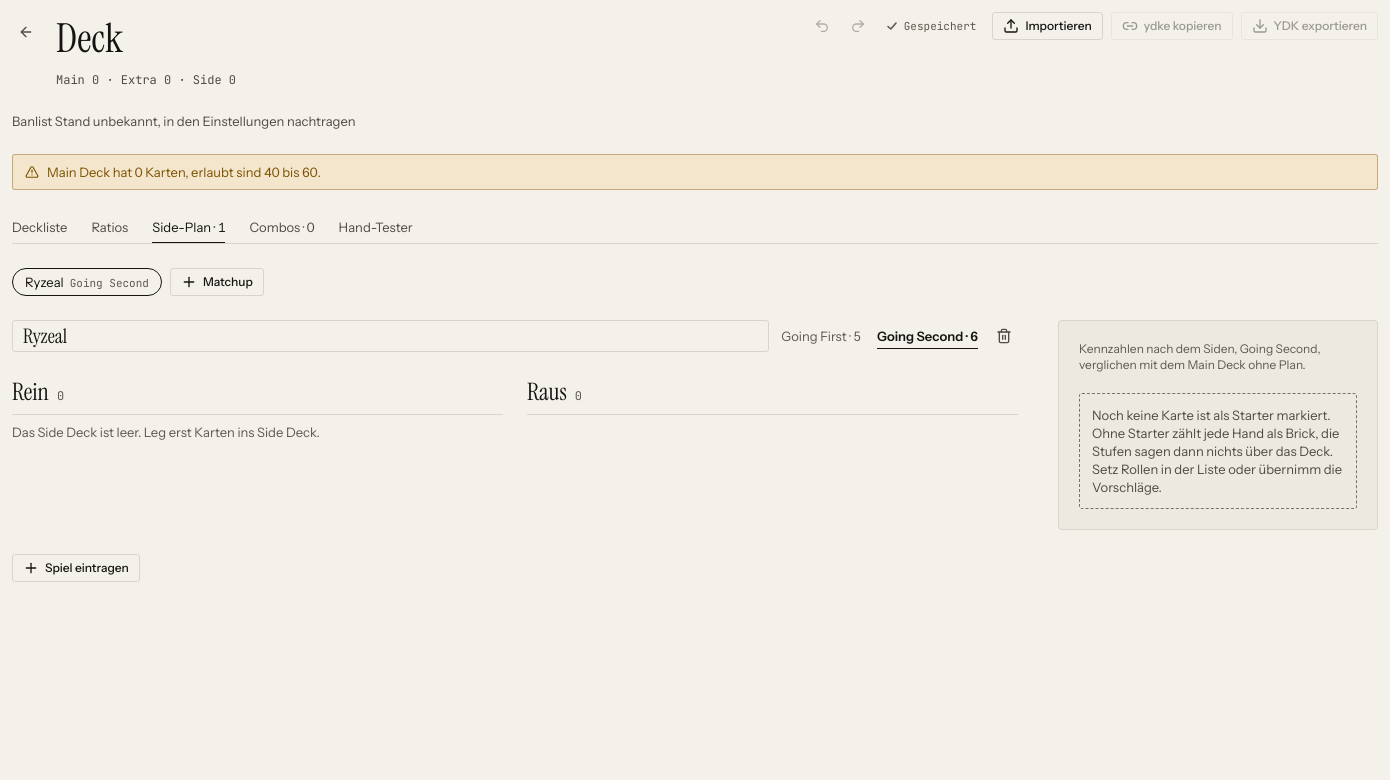
Strg+Z nimmt einen neuen Side-Plan zurück, aber nicht dessen neu eingetragenes Spiel
Click the button "Matchup" at (217, 282), box left=170, top=268, right=264, bottom=296
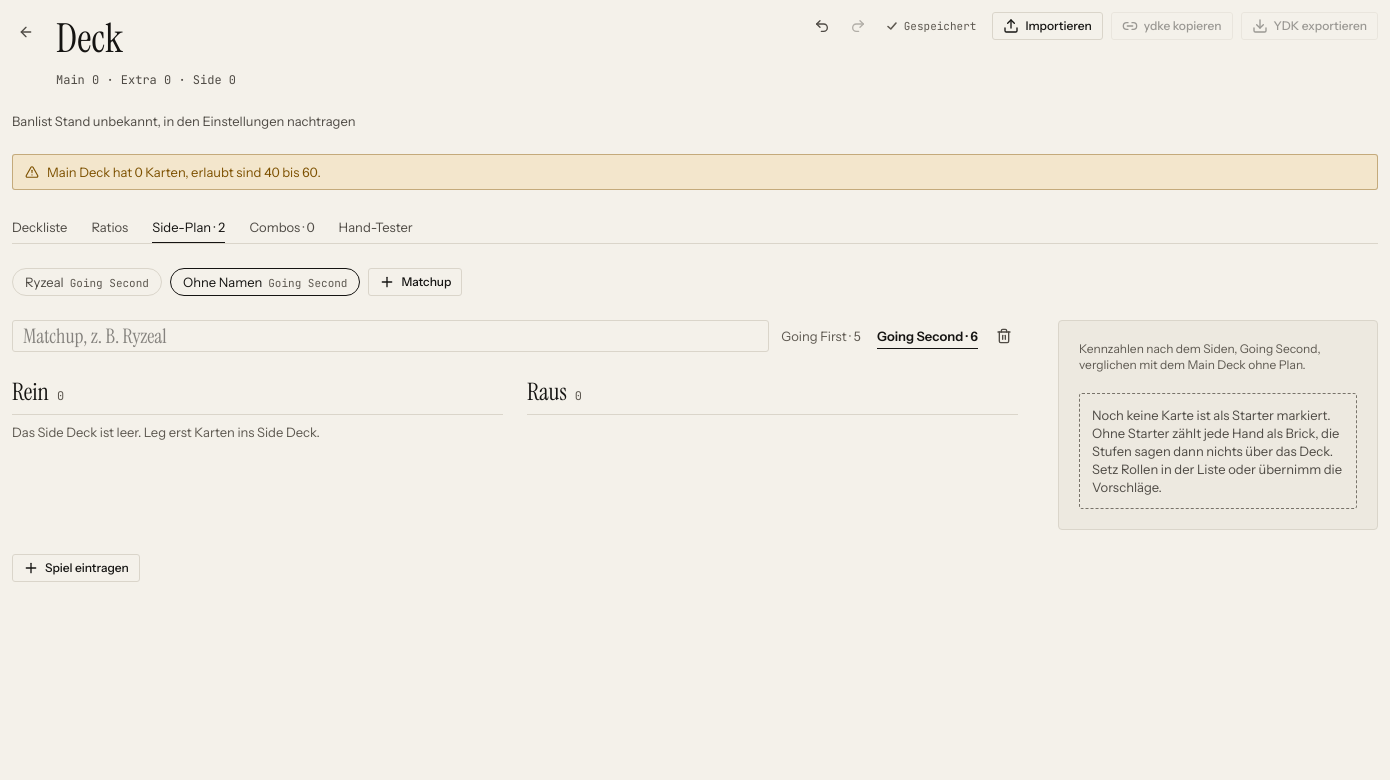
Click the button "Spiel eintragen" at (76, 568), box left=12, top=554, right=140, bottom=582
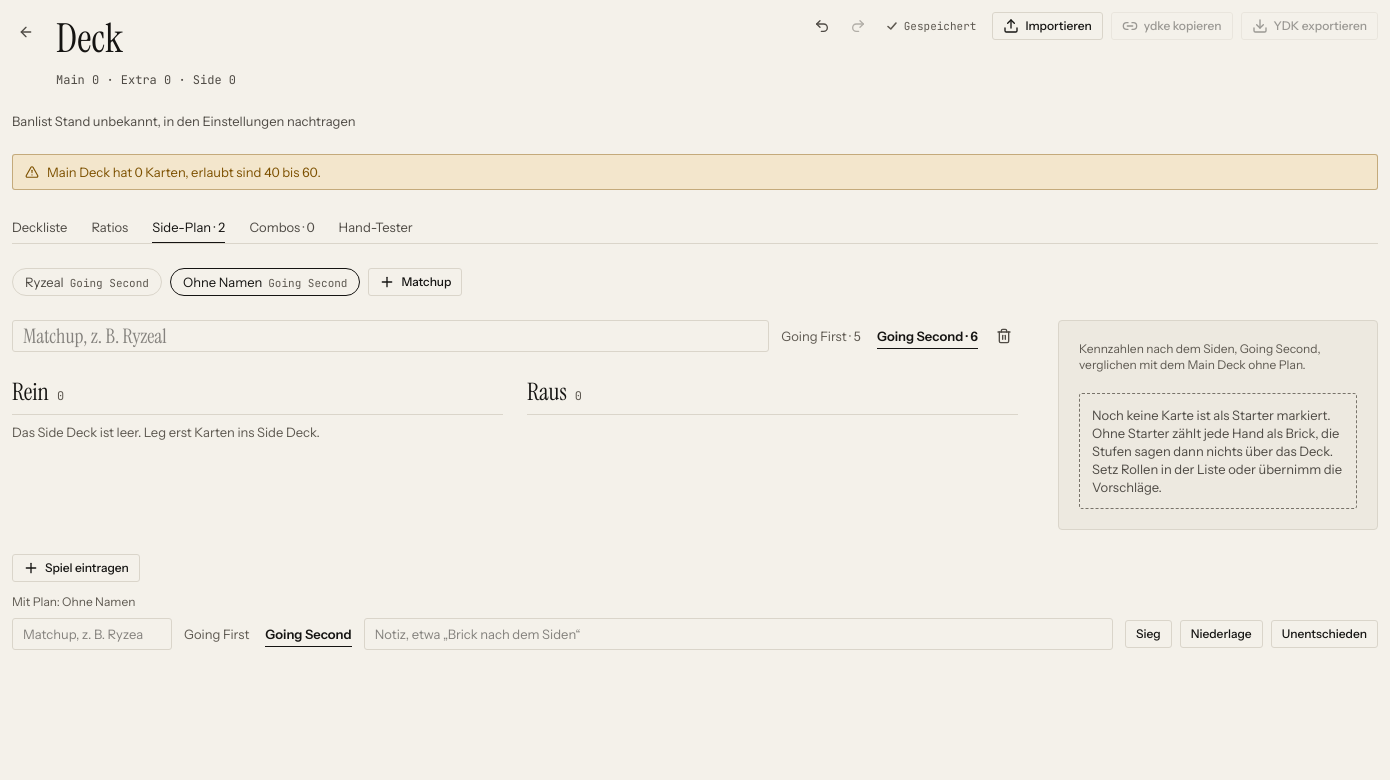
Click the button "Sieg" at (1148, 634), box left=1125, top=620, right=1172, bottom=648
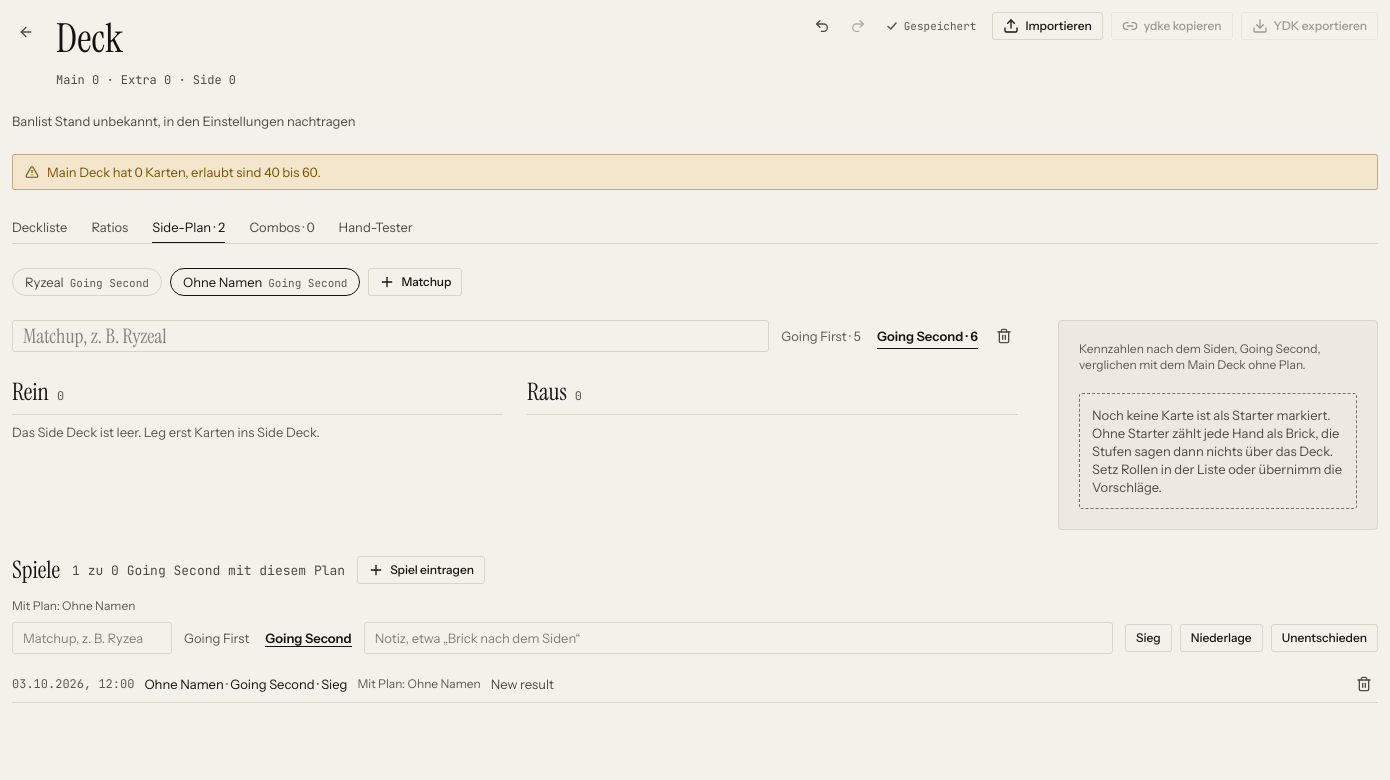
Check: the text "New result" is shown, box left=491, top=676, right=554, bottom=692
Press z
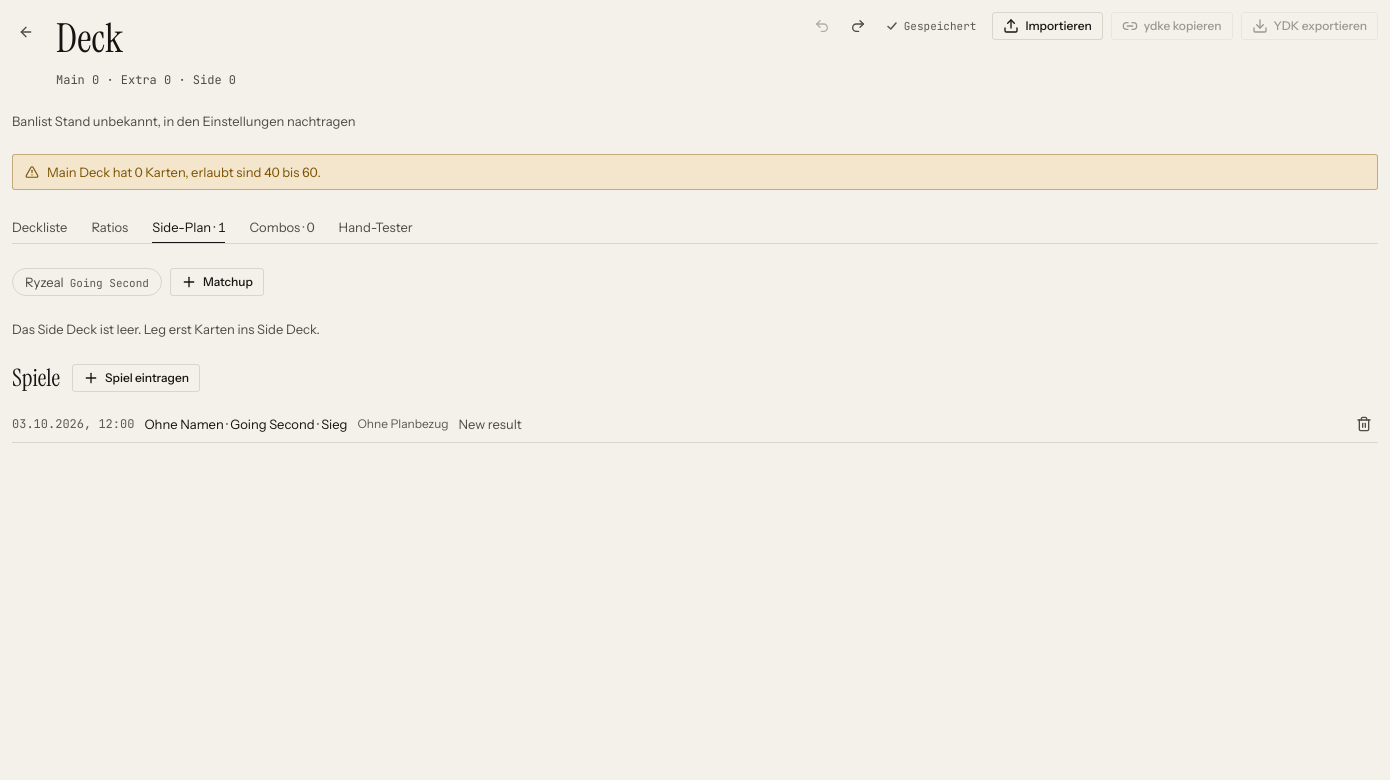
Check: the text "New result" is shown, box left=458, top=416, right=522, bottom=432
Check: the text "Ohne Planbezug" is shown, box left=357, top=416, right=448, bottom=432
